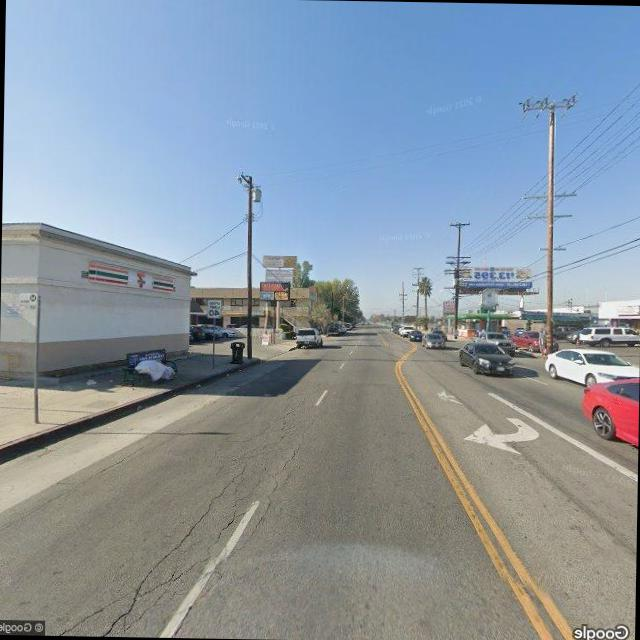pothole: (108, 365, 328, 629)
